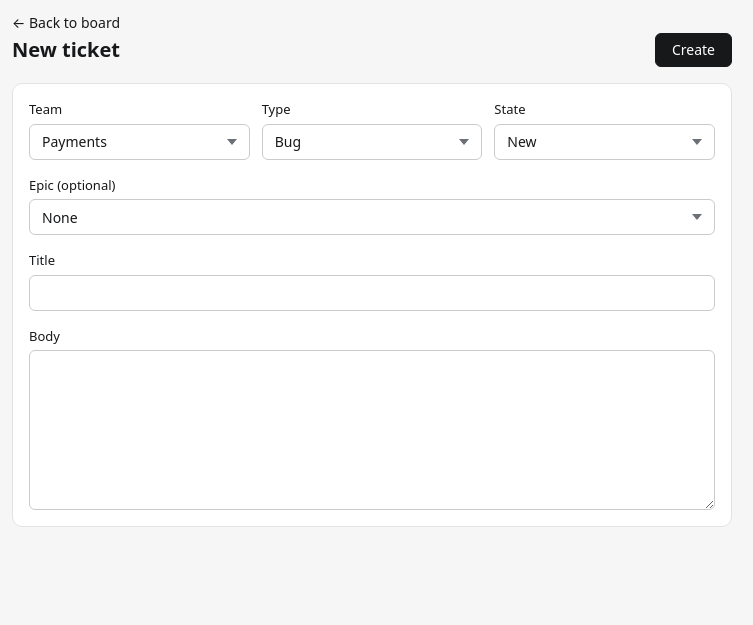
Scenario: Create ticket › shows inline required-field errors when title/body are empty
Check: the heading "New ticket" is shown, box top-left (12, 35), bottom-right (120, 65)
Click the button "Create": coordinates (693, 50) top-left (655, 33), bottom-right (732, 67)
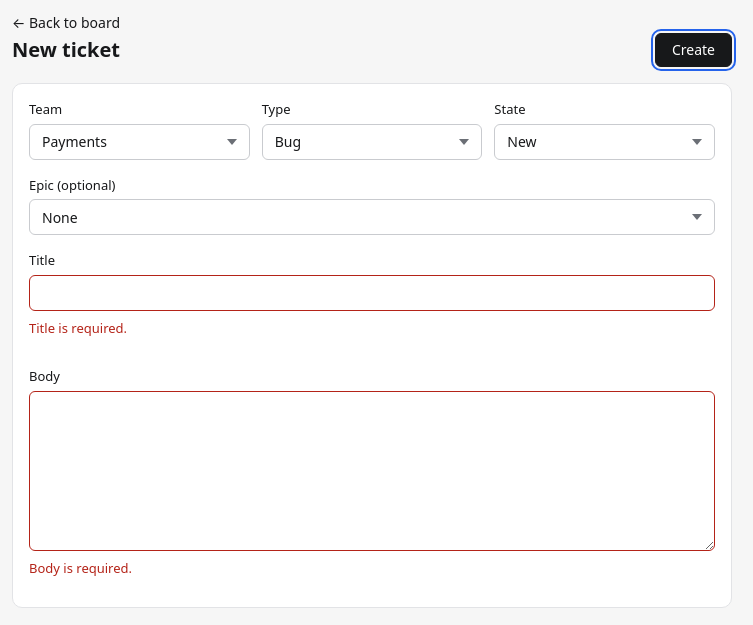
Check: the text "Title is required." is shown, box top-left (29, 318), bottom-right (127, 336)
Check: the text "Body is required." is shown, box top-left (29, 558), bottom-right (132, 576)
